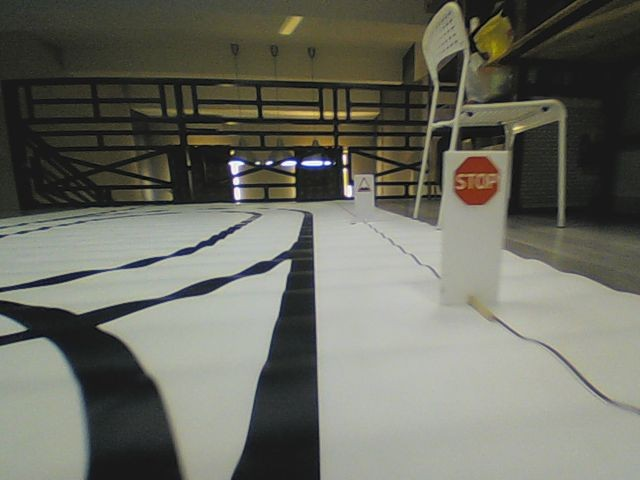Nerov: (357, 176, 371, 192)
Stop: (453, 155, 499, 206)
